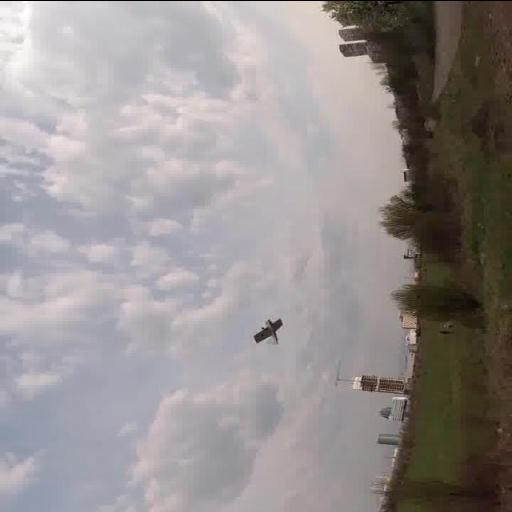uav: (242, 312, 298, 348)
